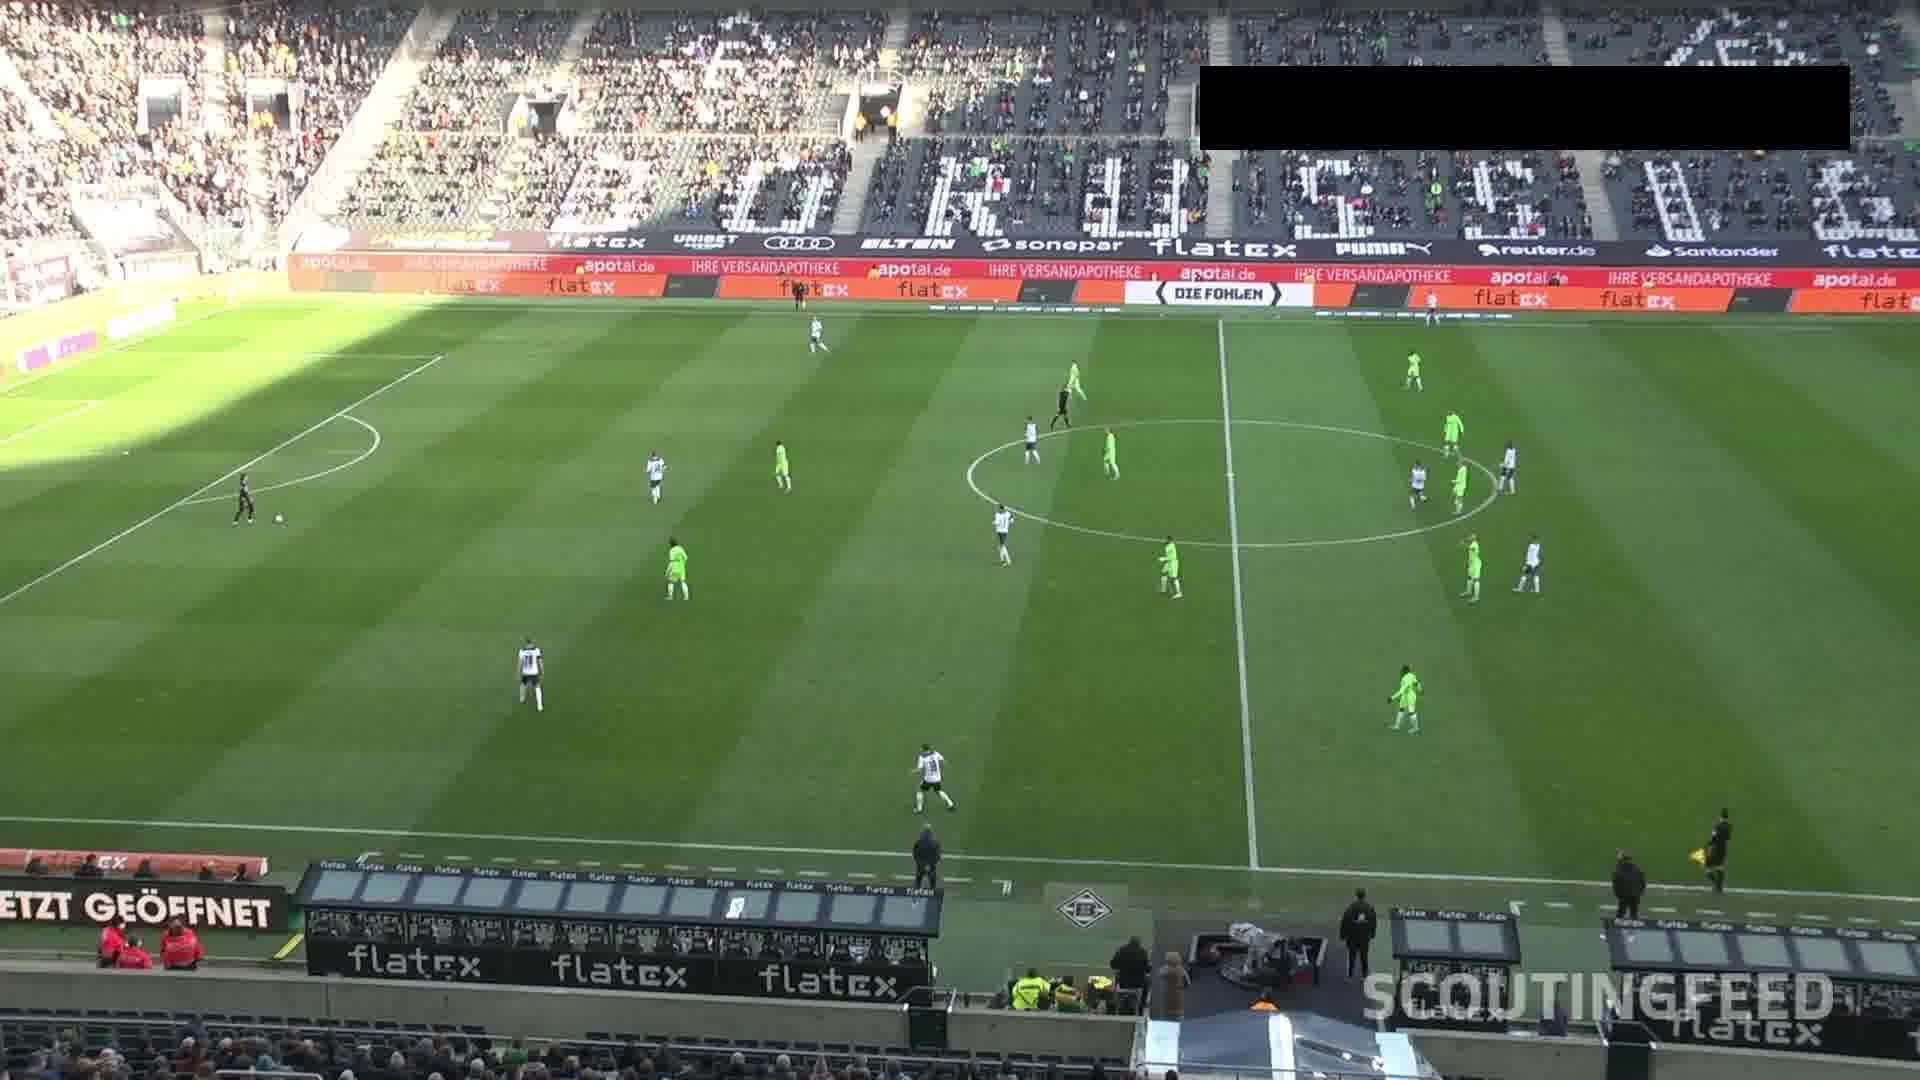football: (274, 512, 286, 525)
